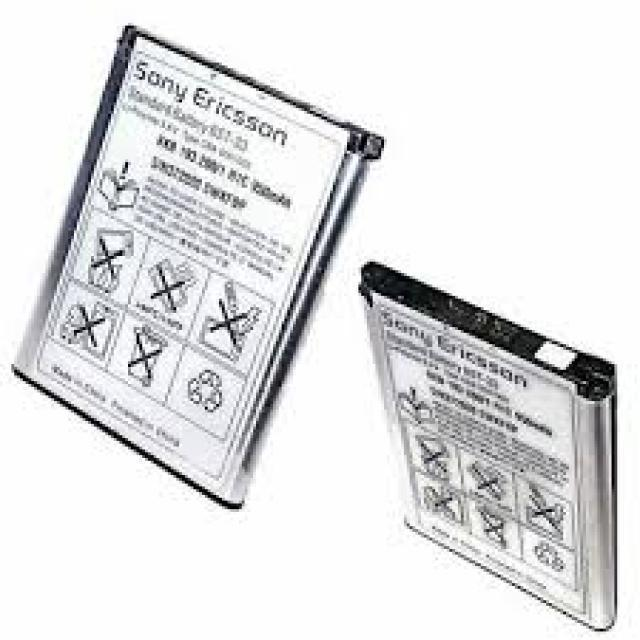battery: (11, 24, 384, 510), (351, 260, 624, 629)
